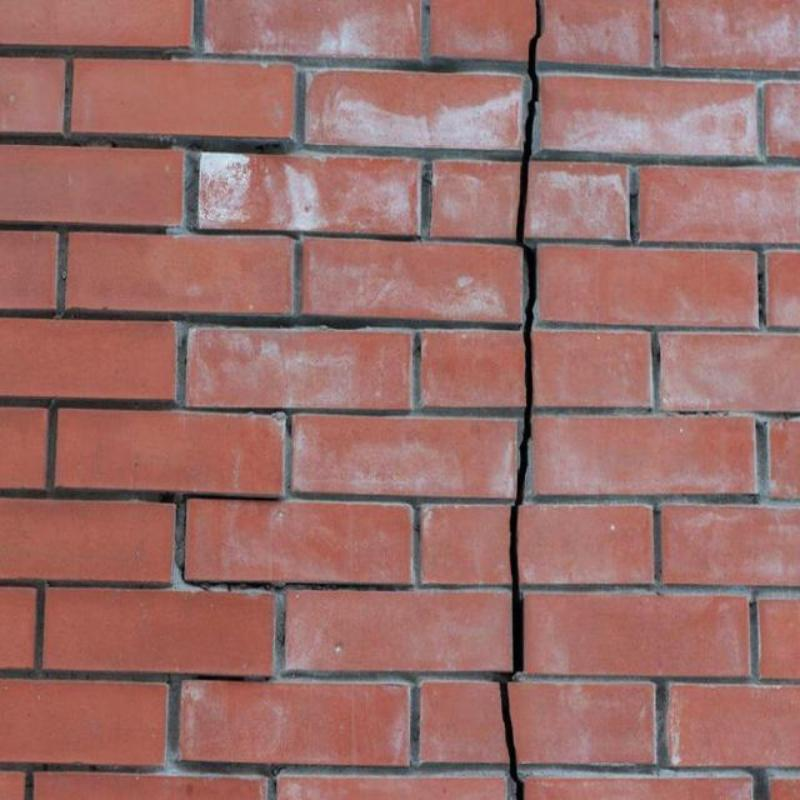pothole: (500, 0, 544, 799)
